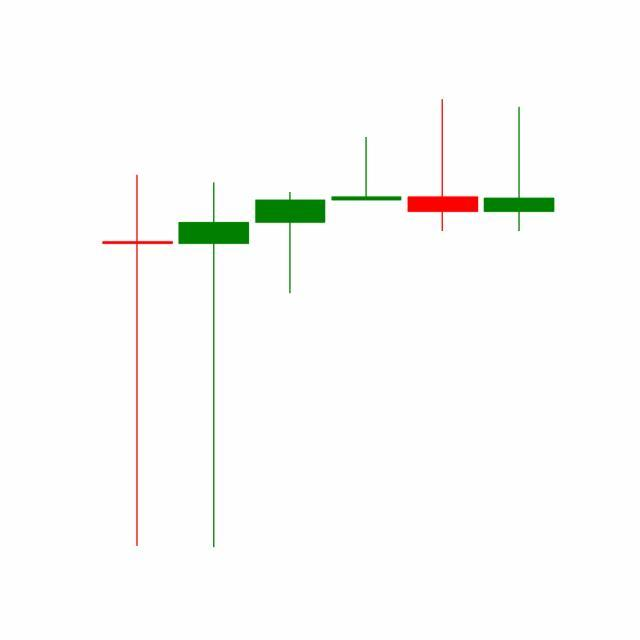Spinning Top: (404, 98, 482, 234)
